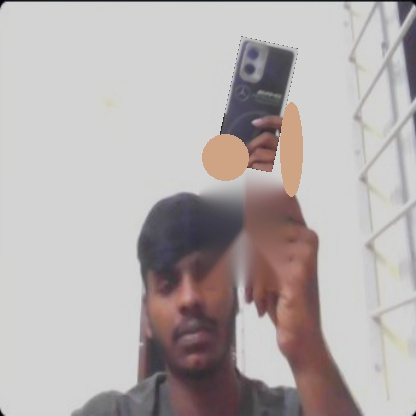cell_phone: (214, 36, 298, 172)
